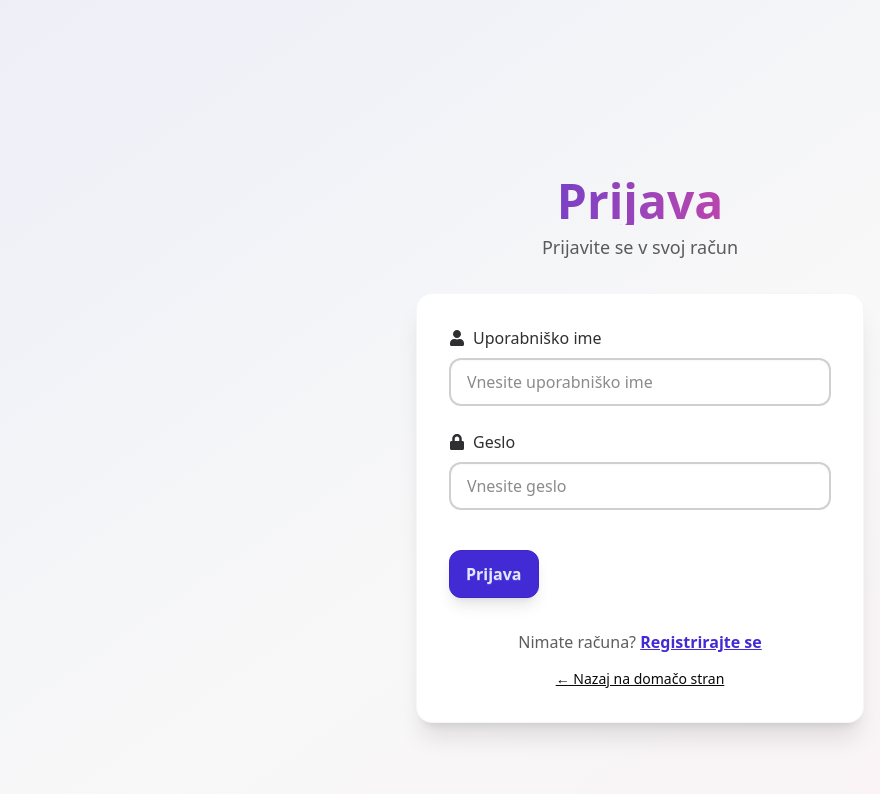
it: LoginPage › prikaže napako ob neuspešni prijavi
Type "testuser" into the field with placeholder "Vnesite uporabniško ime". click: (640, 382)
box: left=449, top=358, right=831, bottom=406
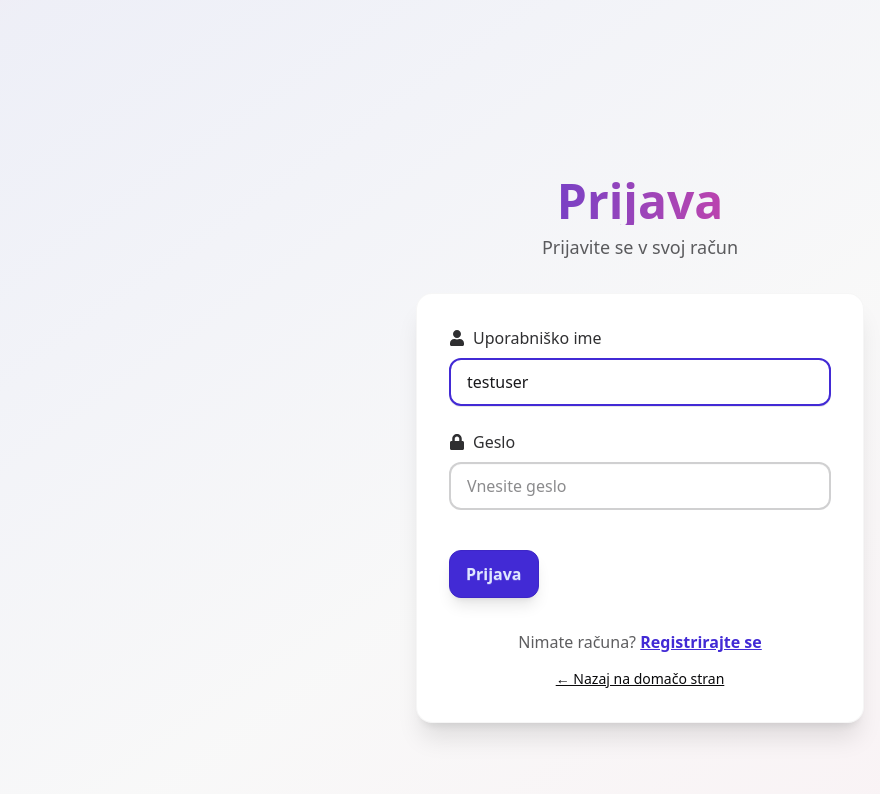
Type "wrongpassword" into the password field with placeholder "Vnesite geslo". click: (640, 486)
box: left=449, top=462, right=831, bottom=510
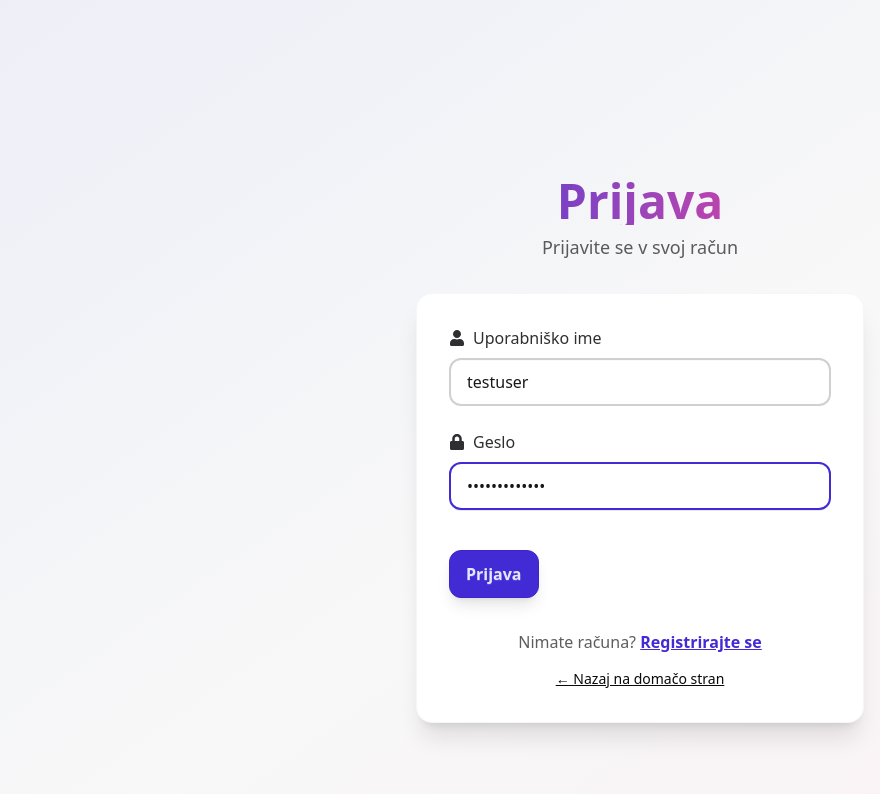
Click the button "Prijava". click: (494, 574)
box: left=449, top=550, right=538, bottom=598
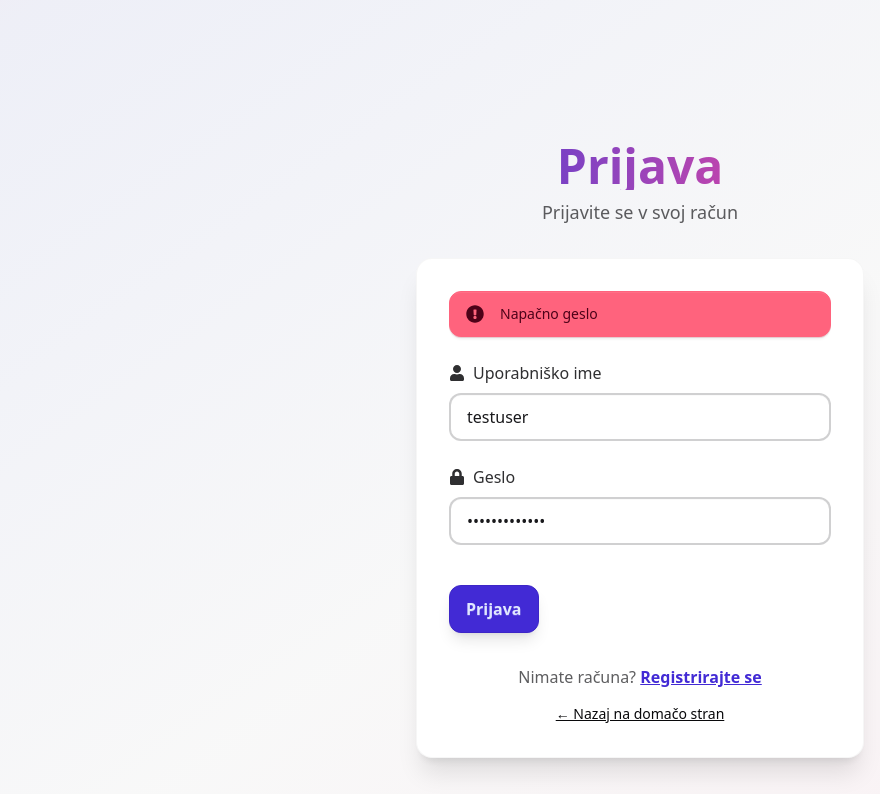
Now the text "Napačno geslo" is shown, box left=500, top=304, right=598, bottom=324
